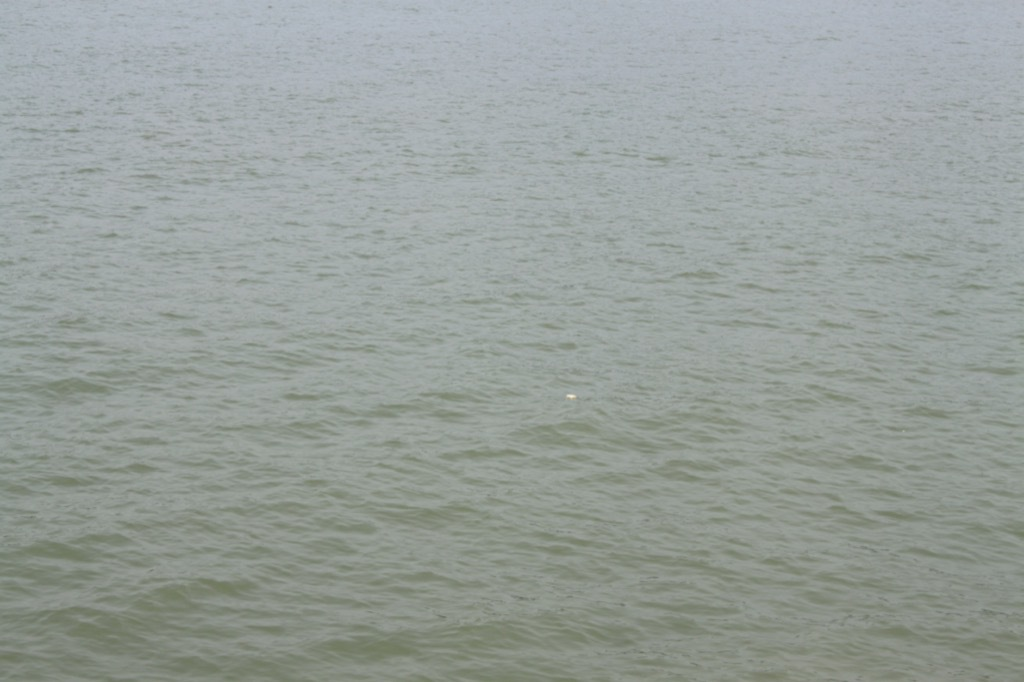plastic: (560, 388, 582, 404)
